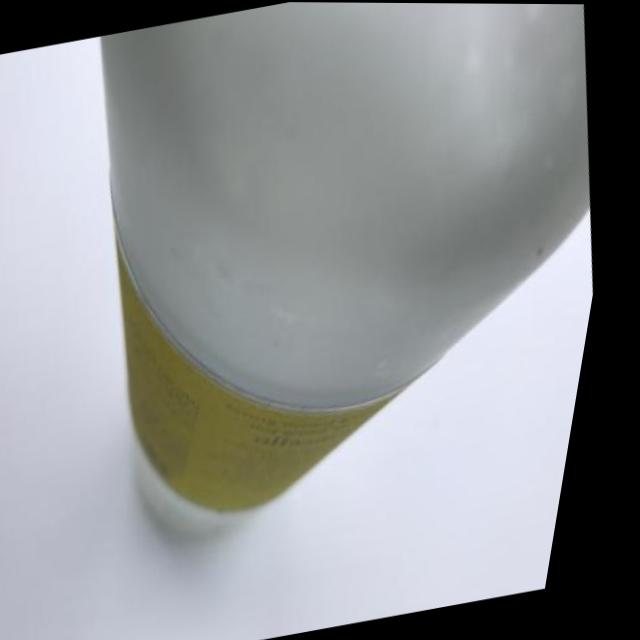glass: (0, 0, 640, 596)
